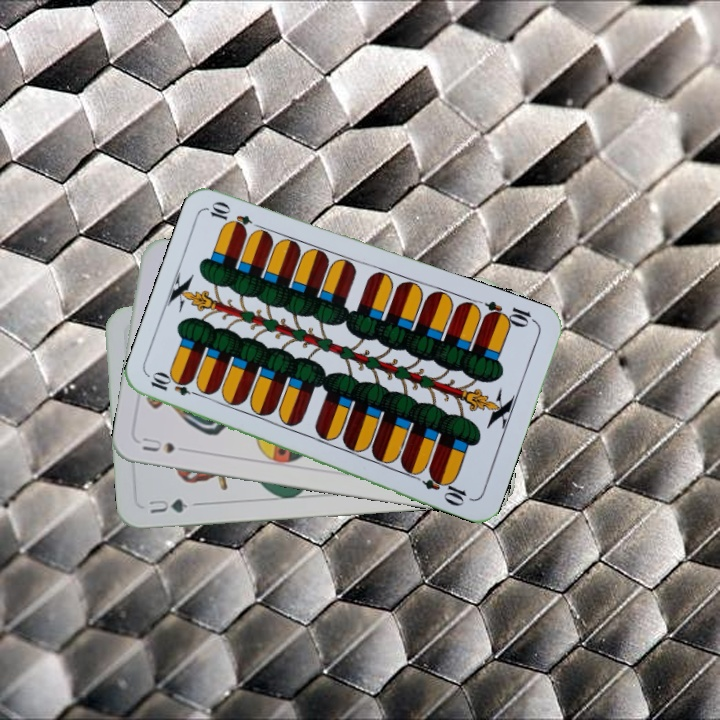E10: (480, 297, 539, 330), (146, 371, 205, 400)
GU: (145, 494, 200, 516)
SU: (138, 433, 177, 456)
